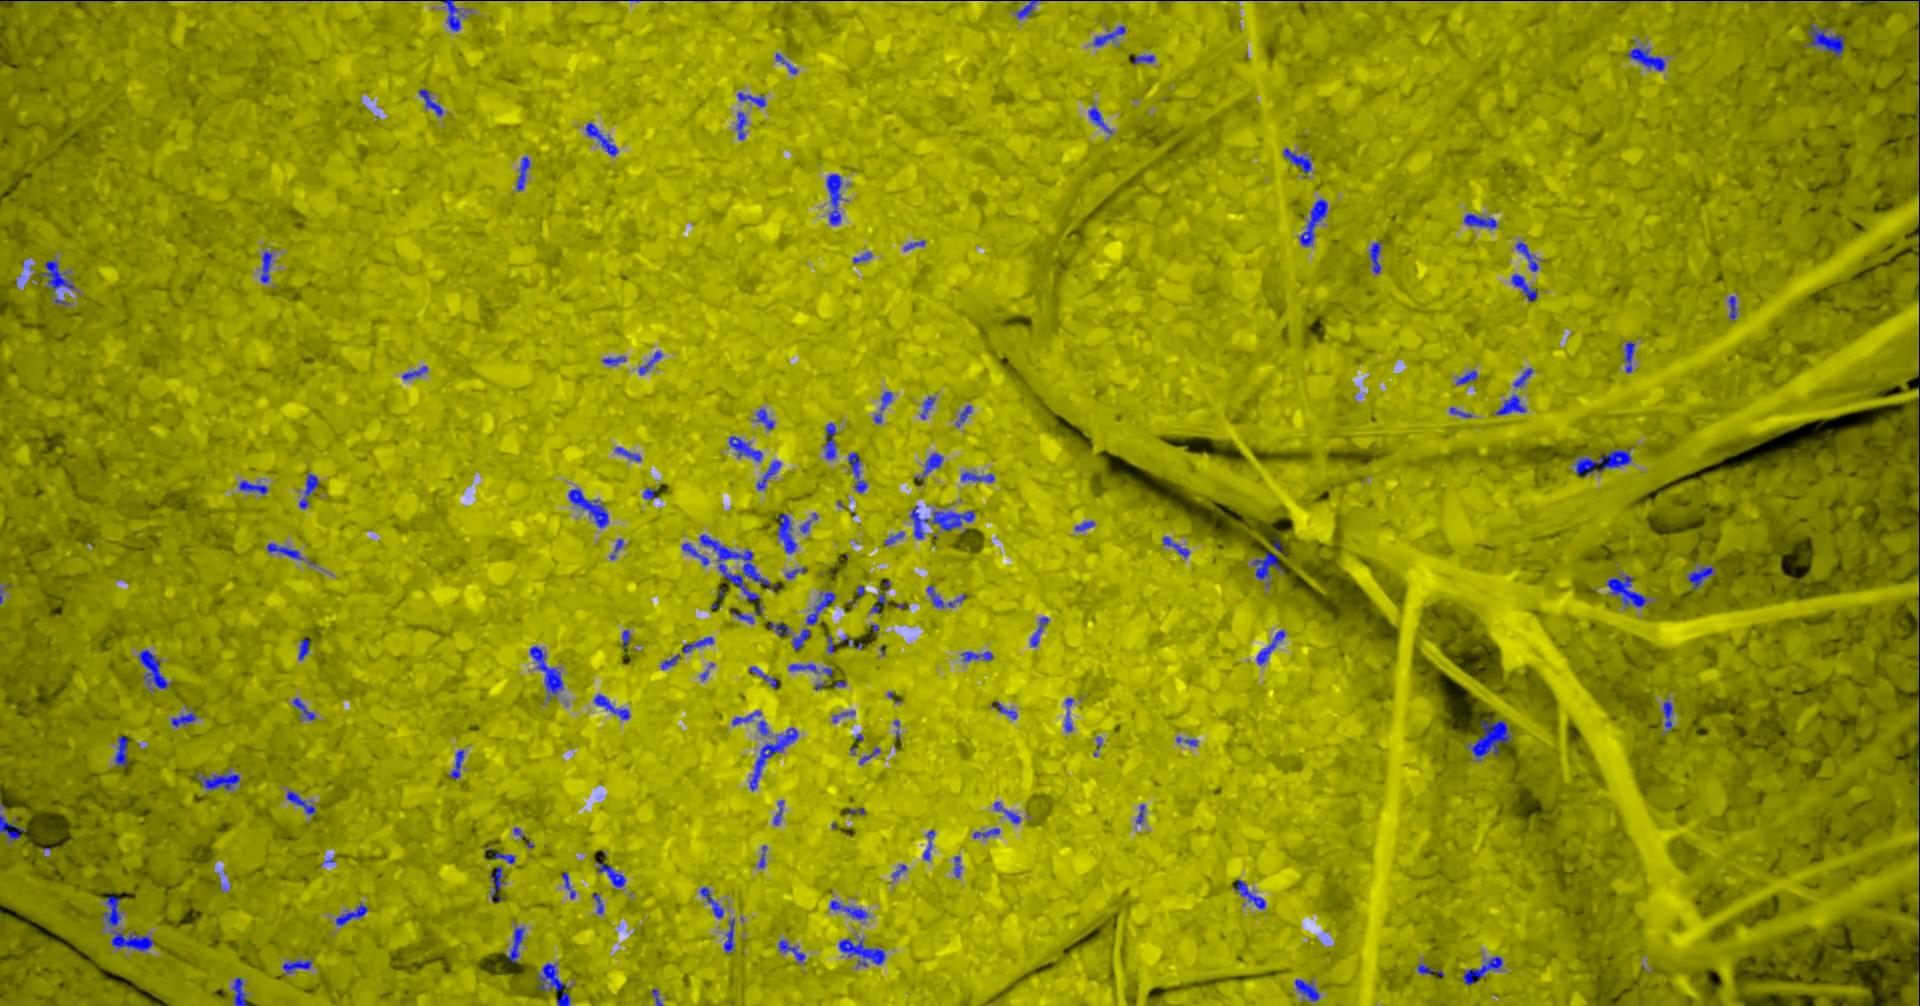ant: (749, 727, 797, 791), (102, 895, 152, 951), (909, 506, 974, 539), (1465, 715, 1509, 760), (530, 645, 563, 699), (568, 488, 608, 527), (1575, 448, 1630, 476), (537, 962, 570, 1005), (1299, 198, 1327, 246), (1605, 573, 1646, 606), (138, 649, 171, 688), (838, 937, 884, 965), (1807, 24, 1844, 56), (39, 259, 77, 290), (1463, 956, 1502, 984), (585, 122, 617, 155), (1256, 629, 1285, 664), (806, 591, 836, 624), (1233, 879, 1265, 908), (593, 694, 629, 719), (1627, 47, 1665, 70), (775, 513, 796, 553), (926, 586, 965, 607), (1251, 551, 1283, 578), (825, 173, 842, 224), (728, 436, 761, 461), (196, 770, 239, 789), (439, 0, 466, 30), (847, 452, 867, 492), (829, 901, 869, 920), (596, 861, 625, 887), (698, 887, 723, 917), (335, 902, 367, 925), (1511, 273, 1537, 301), (914, 452, 942, 478), (756, 460, 780, 489), (298, 473, 317, 509), (418, 88, 442, 116), (1283, 147, 1310, 171), (1515, 241, 1538, 271), (748, 666, 777, 688), (286, 790, 315, 813), (0, 814, 25, 840), (1087, 107, 1111, 133), (681, 542, 709, 565), (777, 939, 805, 962), (1092, 25, 1125, 44), (265, 542, 303, 559), (1495, 394, 1525, 414), (507, 927, 524, 962), (872, 391, 891, 423), (1688, 567, 1713, 589), (1029, 616, 1048, 647), (1162, 536, 1189, 558), (993, 801, 1020, 823), (637, 351, 662, 373), (1294, 979, 1319, 1001), (490, 865, 505, 901), (681, 636, 712, 652), (231, 976, 248, 1005), (516, 156, 530, 191), (1463, 213, 1497, 227), (292, 697, 314, 719), (775, 53, 797, 74), (448, 749, 463, 779), (731, 710, 759, 725), (824, 422, 836, 459), (756, 408, 775, 429), (237, 480, 267, 494), (282, 958, 311, 972), (1016, 0, 1039, 18), (792, 627, 810, 650), (560, 871, 575, 898), (114, 735, 127, 767), (723, 918, 734, 953), (737, 91, 764, 105), (1512, 367, 1531, 387), (922, 829, 935, 860), (994, 701, 1016, 719), (171, 711, 196, 727), (1369, 241, 1380, 273), (1623, 340, 1634, 372), (955, 405, 971, 427), (615, 447, 640, 461), (919, 396, 935, 419), (960, 471, 994, 481), (730, 608, 753, 622), (260, 251, 270, 282), (870, 593, 885, 614), (660, 654, 681, 669), (403, 366, 427, 379), (971, 828, 1001, 838), (1063, 697, 1072, 730), (1417, 964, 1443, 976), (735, 111, 745, 138), (1455, 370, 1476, 384), (884, 531, 904, 545), (768, 621, 789, 635), (772, 800, 783, 824), (961, 652, 992, 661), (1662, 701, 1672, 728), (590, 893, 603, 913), (789, 663, 817, 672), (1074, 520, 1095, 531), (785, 567, 805, 578), (298, 638, 309, 661), (491, 852, 514, 862), (1449, 406, 1470, 417), (852, 251, 871, 263), (601, 356, 625, 365), (1131, 55, 1154, 64), (643, 486, 658, 499), (952, 855, 961, 876), (1728, 295, 1736, 319), (621, 630, 630, 649), (825, 633, 834, 652), (1135, 804, 1144, 823), (758, 720, 768, 735), (1917, 398, 1919, 473)
